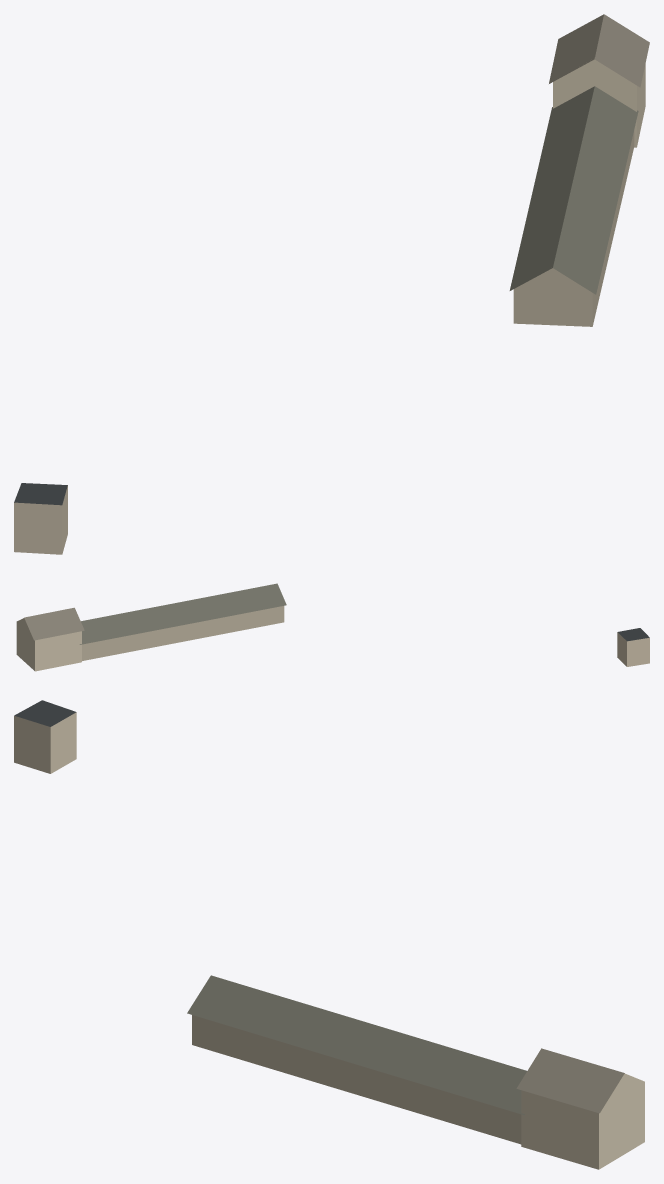
3 renders of one model, top to bottom at view 1: azimuth 30°, elevation 25°; view 2: azimuth 150°, elevation 25°; view 3: azimuth 270°, elevation 25°, orthographic. The views are drawn at different scales.
Parts seen in each view (by area): view 1: tuile; view 2: tuile; view 3: tuile.
Part boxes in pixels (x1,y1,x2,y2): tuile: (14, 14, 649, 554); tuile: (16, 583, 649, 671); tuile: (14, 700, 644, 1169).
Size of the model in its own units: 97.34 by 9.42 by 60.79.
